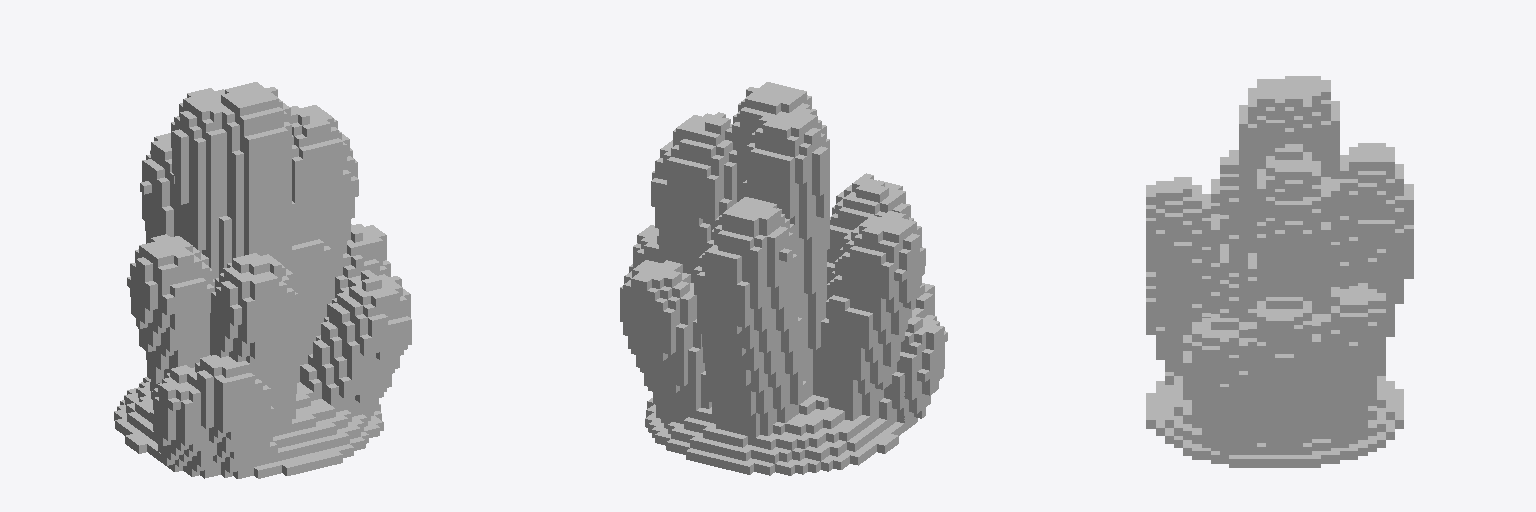
Rendered from VCrystal2.obj.
3 views of the same model, side by side, from view 1: azimuth 30°, elevation 25°; view 2: azimuth 150°, elevation 25°; view 3: azimuth 270°, elevation 25° (orthographic).
Visible parts, largest first — view 1: VCrystal2; view 2: VCrystal2; view 3: VCrystal2.
Boxes of the visible parts, box(x1,y1,x2,y2) form: VCrystal2: box(114, 82, 411, 478); VCrystal2: box(620, 82, 947, 475); VCrystal2: box(1146, 76, 1413, 467).
Size of the model in its own units: 0.7536 by 0.8907 by 0.6623.